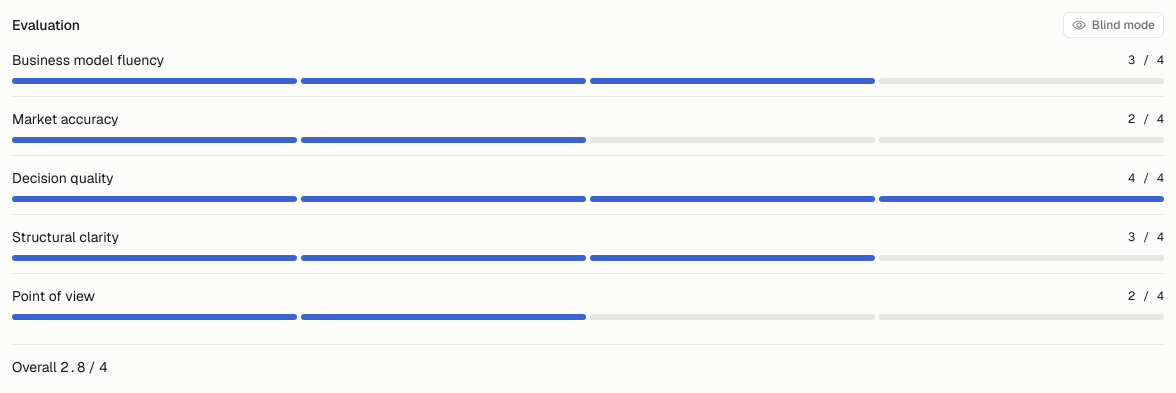
Test: EvaluationColumn › blind mode hides the numbers and the fills, and leaves coverage
Click the button "Blind mode": click(1113, 25) x1=1063 y1=12 x2=1164 y2=38
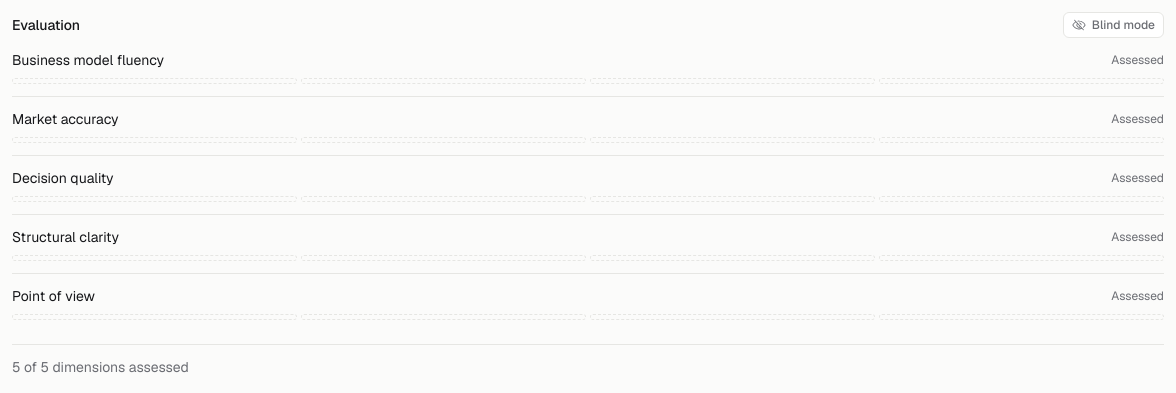
Now the text "Overall" is gone
Now the text "3 / 4" is gone
Now the text "5 of 5 dimensions assessed" is shown, box x1=12 y1=358 x2=189 y2=376
